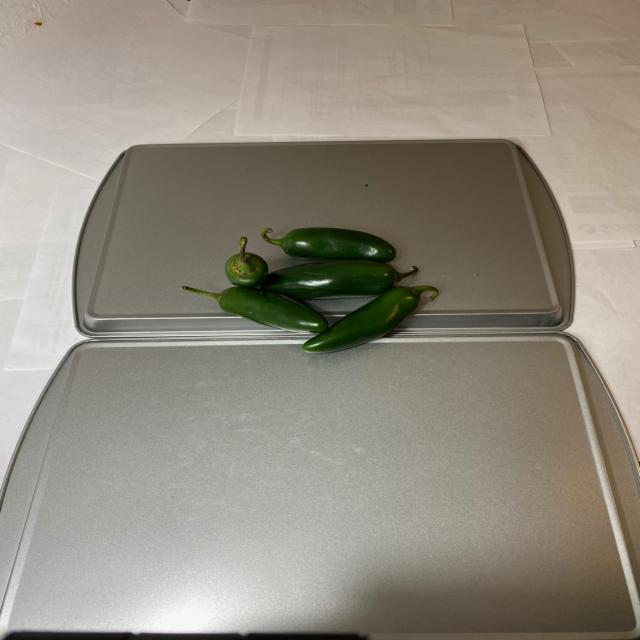chilli: (193, 228, 445, 356)
